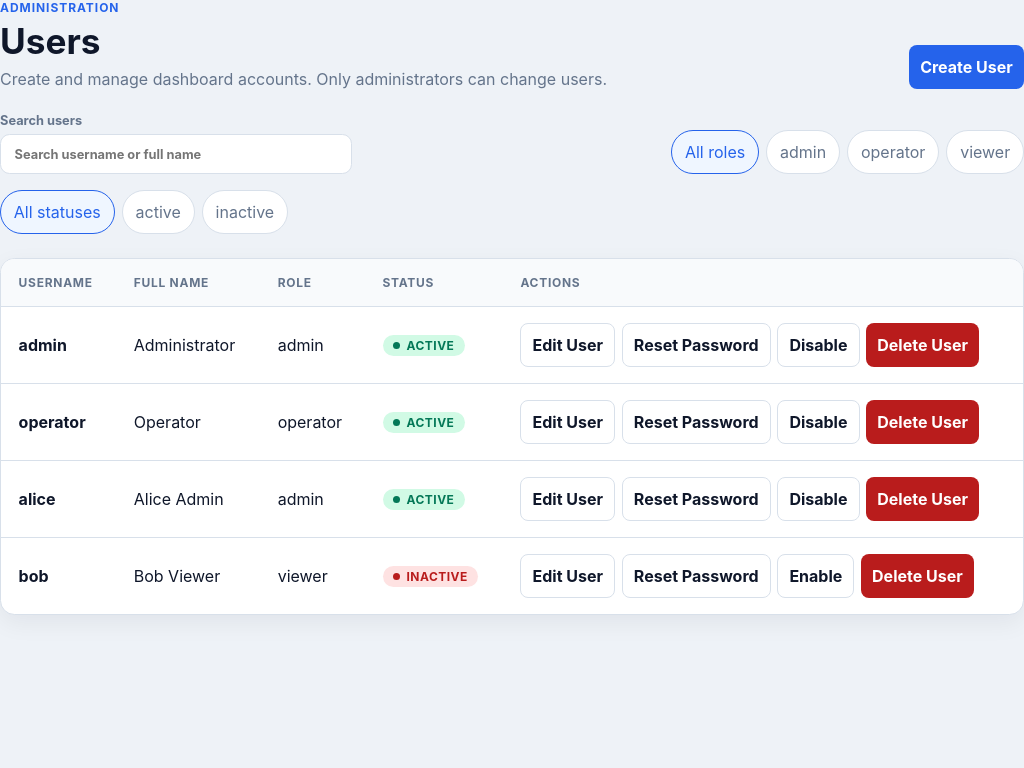
Test case: Users page › opens the edit dialog
Check: the text "alice" is shown, box [1, 460, 116, 537]
Click the button "Edit User" in the row of "Alice Admin": (568, 499) [520, 477, 615, 521]
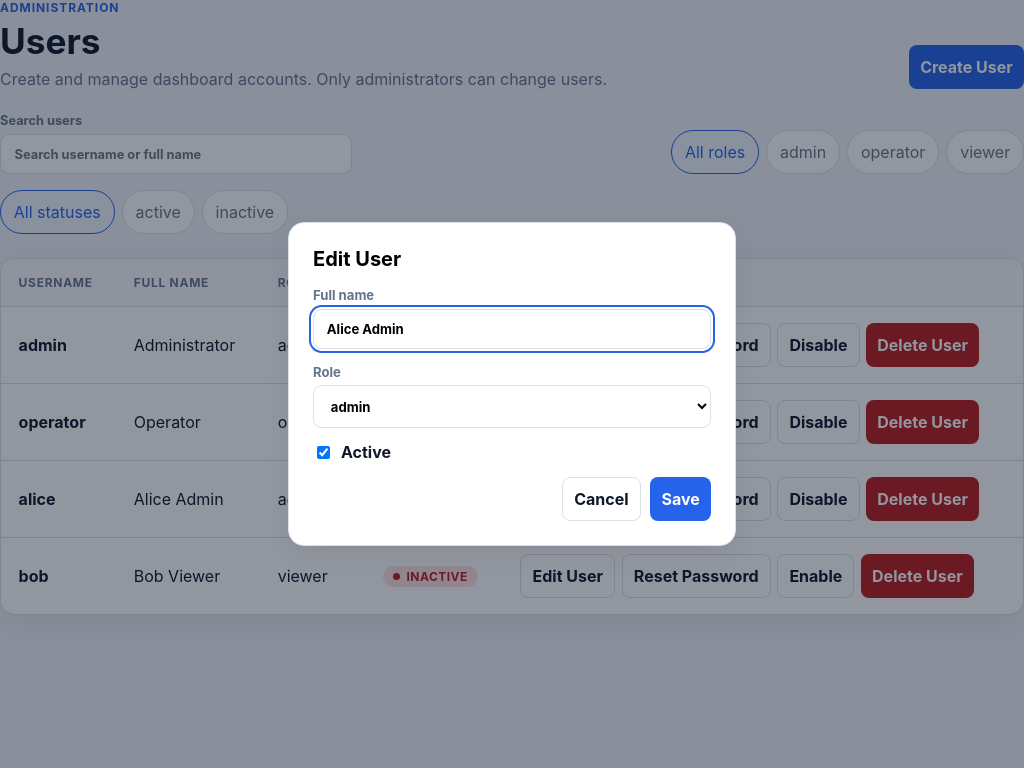
Check: the heading "Edit User" is shown, box [313, 247, 401, 271]
Check: the field labelled "Full name" holds "Alice Admin", box [313, 309, 711, 349]
